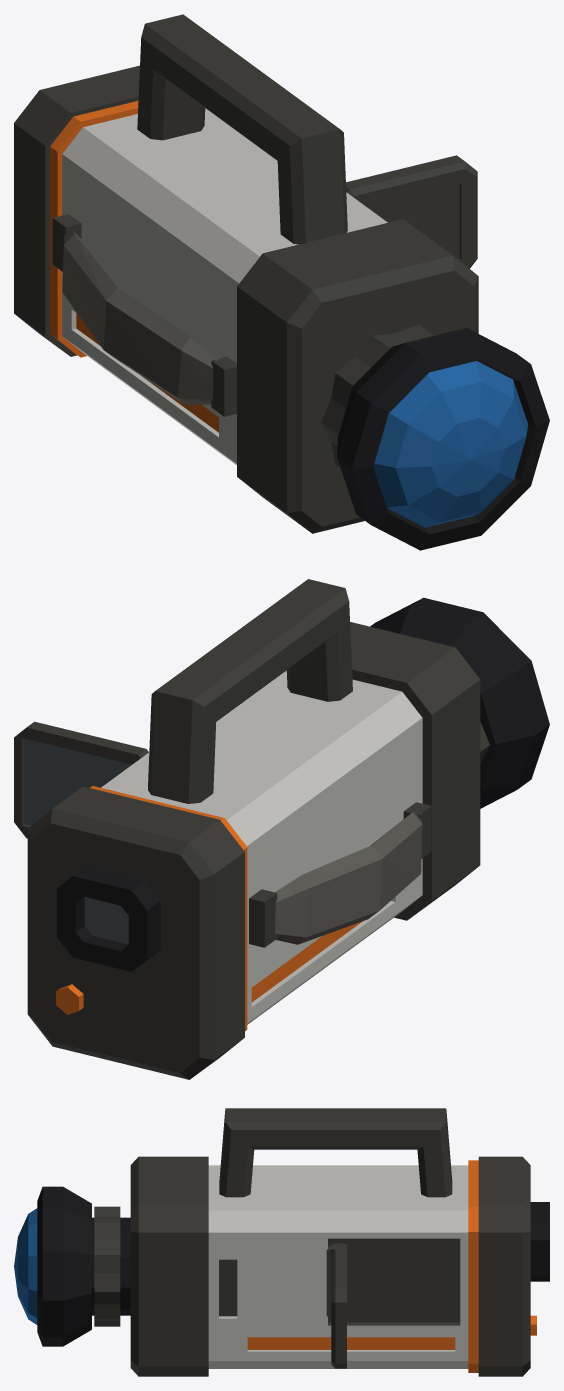
The model's file is fisheye-camcorder-6a3d64.glb.
3 views of the same model, one above another, from view 1: azimuth 30°, elevation 25°; view 2: azimuth 150°, elevation 25°; view 3: azimuth 270°, elevation 25° (orthographic). The views are drawn at different scales.
Parts seen in each view (by area): view 1: body, fisheye-dome, fisheye-bell, screen-panel; view 2: body, fisheye-bell, screen-panel; view 3: body, fisheye-bell, fisheye-dome, screen-panel.
Part boxes in pixels (left/top/right/bottom): body: left=14, top=14, right=478, bottom=533; fisheye-dome: left=373, top=361, right=527, bottom=527; fisheye-bell: left=337, top=328, right=549, bottom=550; screen-panel: left=346, top=155, right=477, bottom=268; body: left=27, top=579, right=489, bottom=1079; fisheye-bell: left=370, top=597, right=549, bottom=808; screen-panel: left=14, top=721, right=148, bottom=838; body: left=92, top=1108, right=549, bottom=1376; fisheye-bell: left=37, top=1186, right=91, bottom=1346; fisheye-dome: left=14, top=1208, right=37, bottom=1324; screen-panel: left=331, top=1243, right=347, bottom=1368.
Size of the model in its own units: 0.232 by 0.202 by 0.413.
